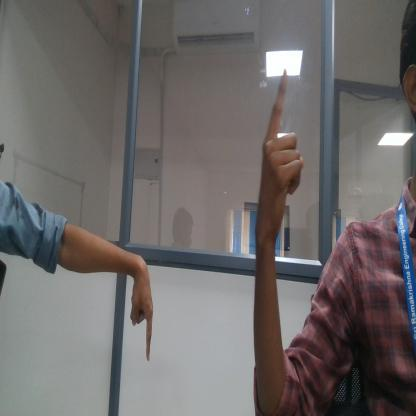Down: (129, 254, 163, 364)
Up: (255, 61, 304, 230)
